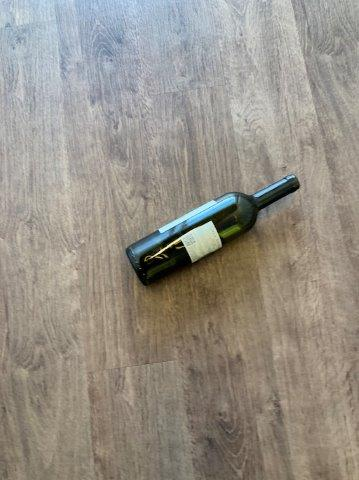botolkaca: (126, 174, 302, 285)
